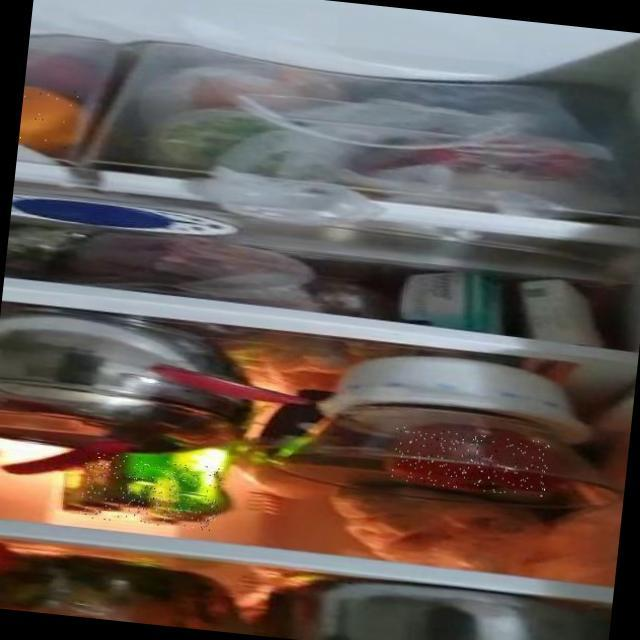mineral water: (79, 450, 221, 530)
orange: (16, 83, 78, 156)
tomato paste: (389, 425, 548, 497)
